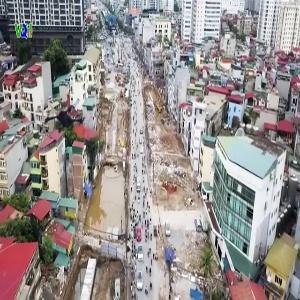drone: (41, 89, 95, 143)
